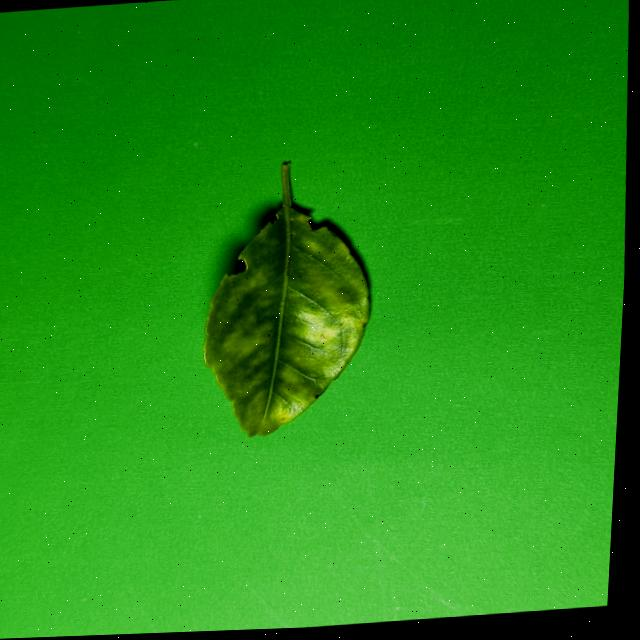greening: (203, 161, 368, 435)
